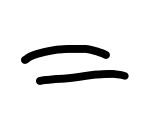eqv: (22, 45, 128, 84)
